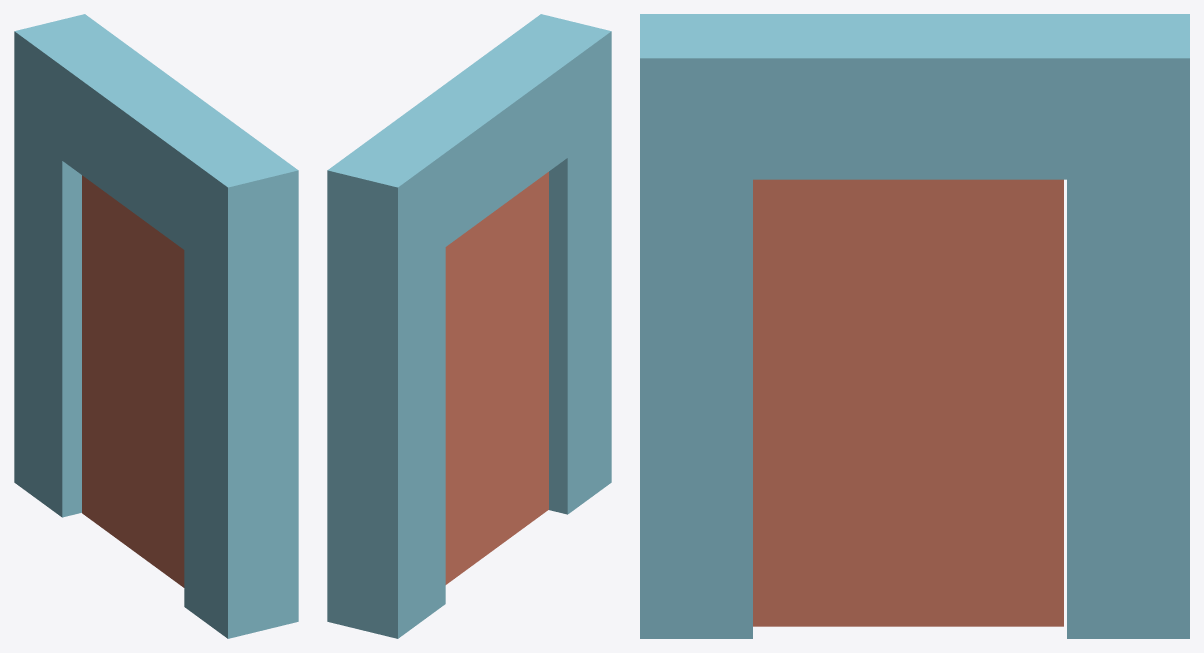
The model's file is puerta.fbx.
3 renders of one model, left to right at view 1: azimuth 30°, elevation 25°; view 2: azimuth 150°, elevation 25°; view 3: azimuth 270°, elevation 25°, orthographic. The views are drawn at different scales.
Parts seen in each view (by area): view 1: Cube, Cube.001; view 2: Cube, Cube.001; view 3: Cube, Cube.001.
Part boxes in pixels (box(x1,y1,x2,y2)): Cube: box(14, 14, 298, 638); Cube.001: box(82, 175, 184, 587); Cube: box(327, 14, 611, 638); Cube.001: box(445, 172, 548, 584); Cube: box(640, 14, 1189, 638); Cube.001: box(753, 179, 1063, 626).
Bounding box in the file's own units: 36.65 × 224 × 192.
